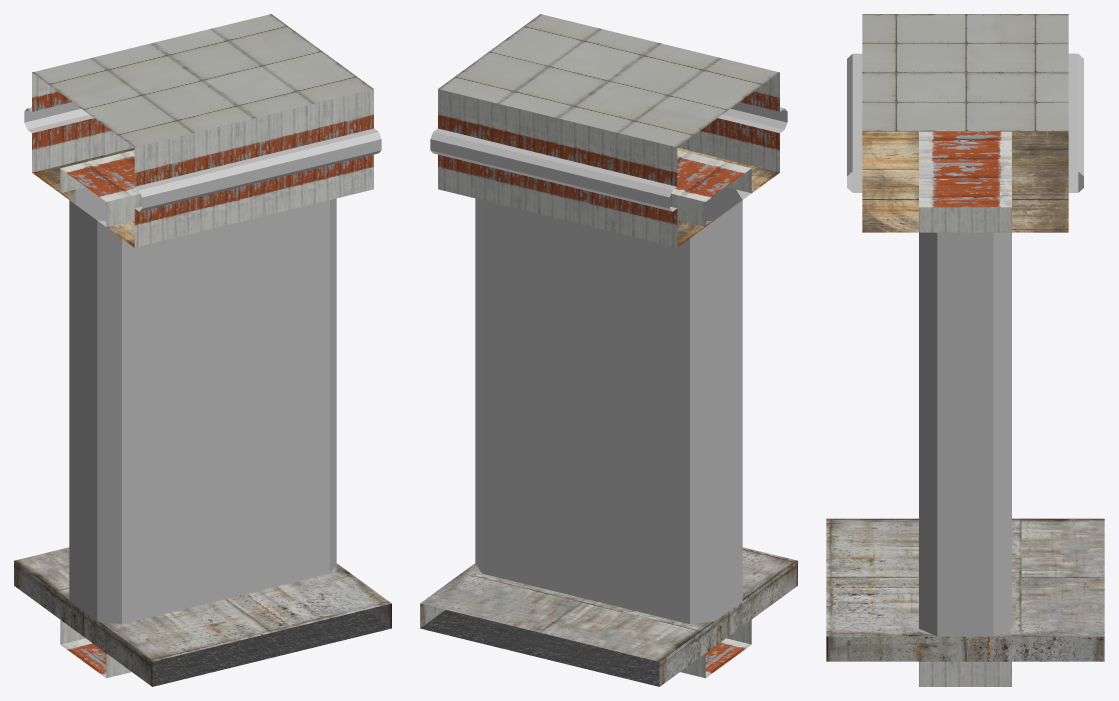
Rendered from Roads.fbx.
3 views of the same model, side by side, from view 1: azimuth 30°, elevation 25°; view 2: azimuth 150°, elevation 25°; view 3: azimuth 270°, elevation 25° (orthographic).
Visible parts, largest first — view 1: Base_Gate_Top_Center, Base_Gate_Top_Side, Road_Gate_Side; view 2: Base_Gate_Top_Center, Base_Gate_Top_Side, Road_Gate_Side; view 3: Base_Gate_Top_Center, Base_Gate_Top_Side, Road_Gate_Side.
Part boxes in pixels (box(x1,y1,x2,y2)): Base_Gate_Top_Center: box(14, 148, 391, 686); Base_Gate_Top_Side: box(24, 14, 381, 247); Road_Gate_Side: box(60, 610, 391, 686); Base_Gate_Top_Center: box(420, 148, 797, 686); Base_Gate_Top_Side: box(430, 14, 787, 247); Road_Gate_Side: box(420, 610, 751, 686); Base_Gate_Top_Center: box(826, 131, 1104, 661); Base_Gate_Top_Side: box(847, 14, 1083, 232); Road_Gate_Side: box(919, 661, 1011, 686).
Size of the model in its own units: 1000 by 1000 by 2200.
